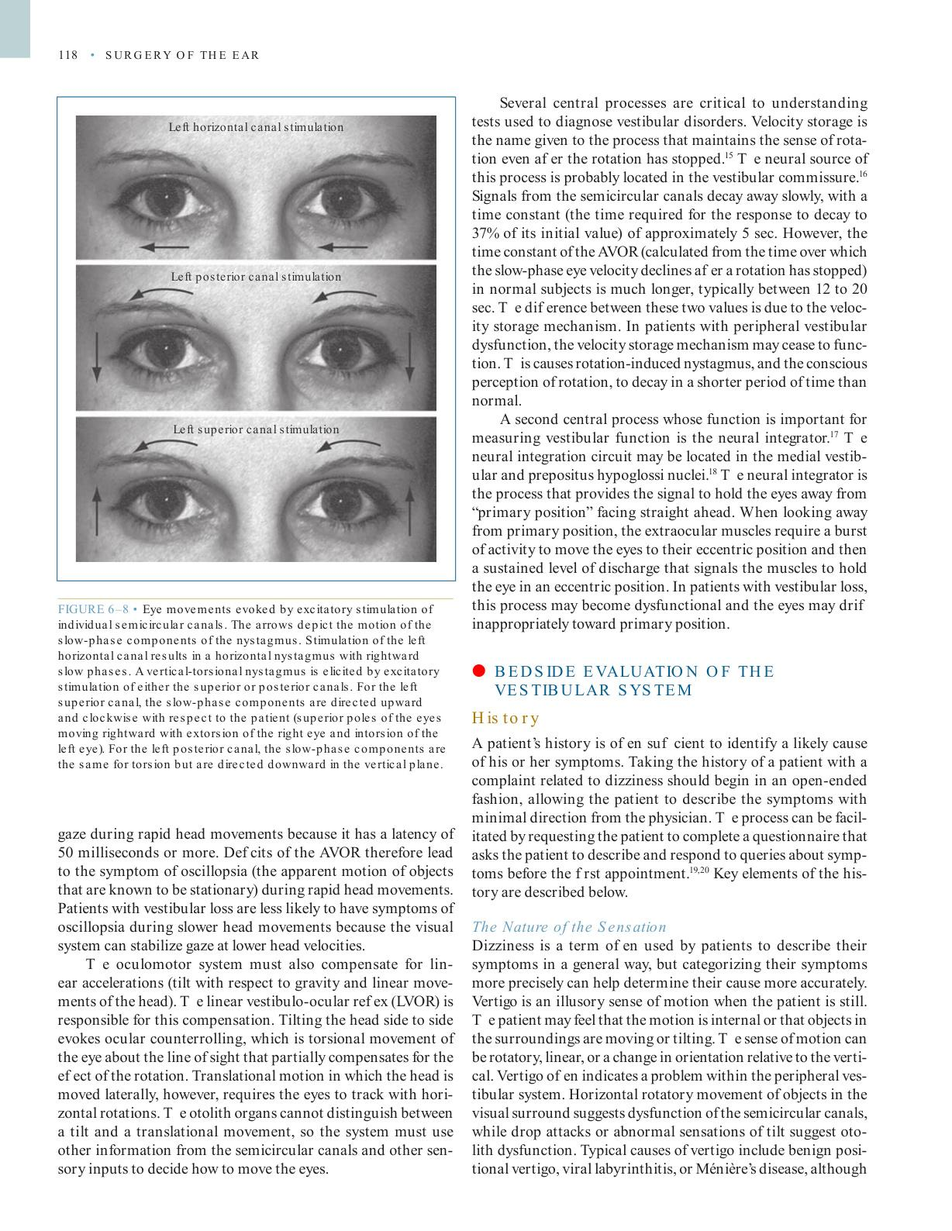caption: (56, 600, 448, 773)
header: (105, 48, 259, 62)
image: (64, 103, 448, 574)
section-heading: (493, 662, 778, 698)
sub-section-heading: (472, 919, 667, 935), (470, 708, 541, 727)
text: (469, 94, 869, 635), (55, 825, 459, 1179), (470, 937, 869, 1179), (470, 734, 872, 902)
